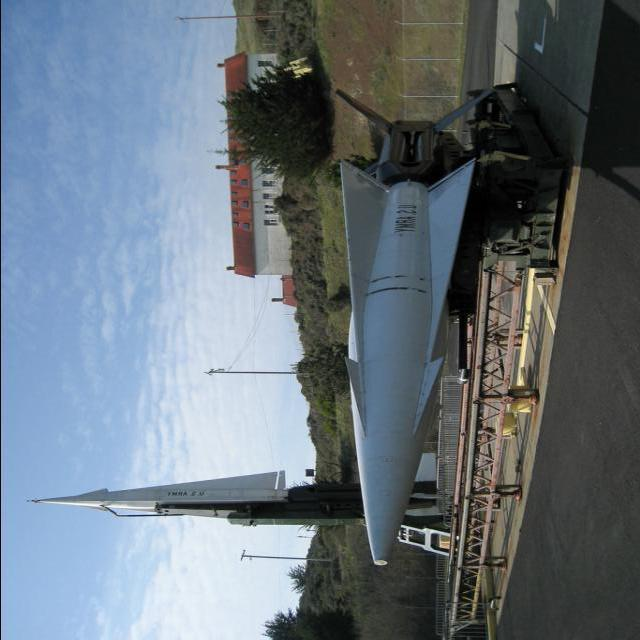Missile: (35, 470, 290, 518)
